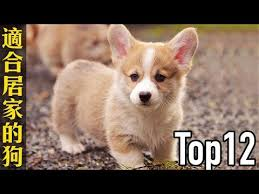dog: (97, 25, 205, 117)
